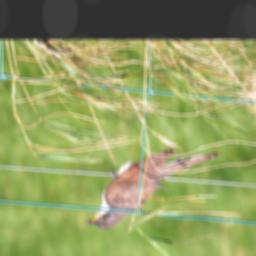Cuckoo: (84, 140, 222, 234)
